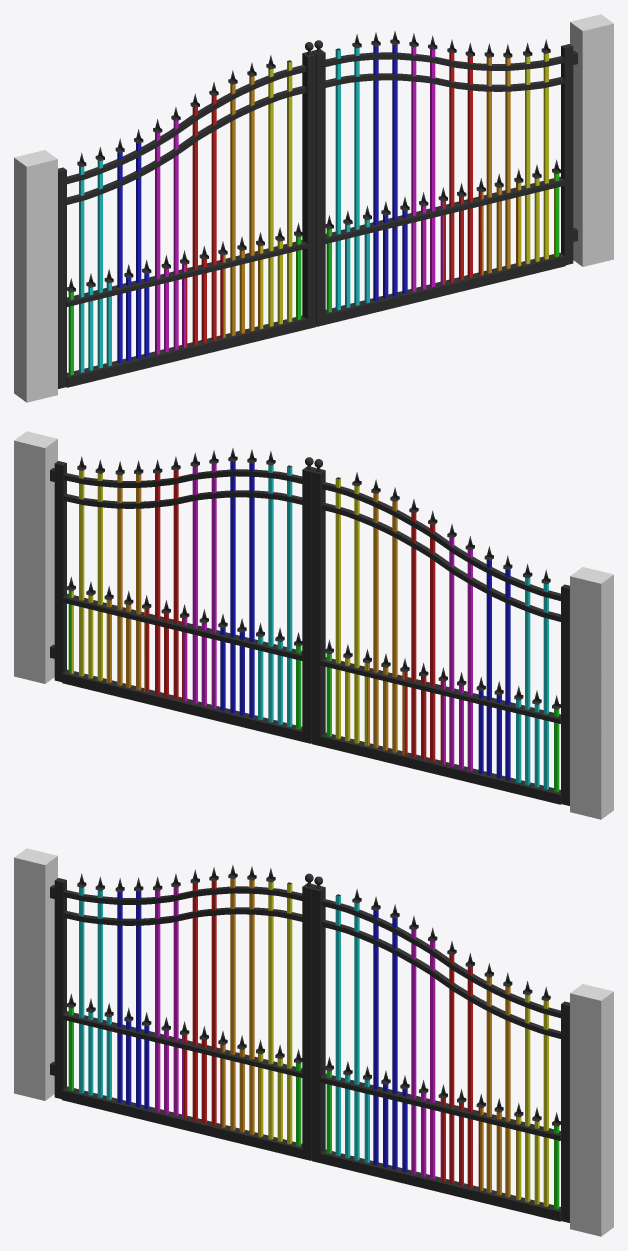
File: Gate 1.fbx
3 views of the same model, one above another, from view 1: azimuth 30°, elevation 25°; view 2: azimuth 150°, elevation 25°; view 3: azimuth 330°, elevation 25° (orthographic).
Visible parts, largest first — view 1: Cone.003, Cone.002, Cone.001, Cone.004; view 2: Cone.003, Cone.002, Cone.001, Cone.004; view 3: Cone.002, Cone.003, Cone.004, Cone.001.
Boxes of the visible parts, bbox=[...] form: Cone.003: bbox=[58, 42, 316, 388]; Cone.002: bbox=[311, 31, 577, 326]; Cone.001: bbox=[14, 150, 57, 402]; Cone.004: bbox=[570, 14, 613, 266]; Cone.003: bbox=[311, 459, 569, 805]; Cone.002: bbox=[50, 448, 316, 743]; Cone.001: bbox=[570, 567, 613, 819]; Cone.004: bbox=[14, 431, 57, 683]; Cone.002: bbox=[311, 876, 569, 1222]; Cone.003: bbox=[50, 865, 316, 1160]; Cone.004: bbox=[570, 984, 613, 1236]; Cone.001: bbox=[14, 848, 57, 1100].
Bounding box in the file's own units: 463 × 215 × 17.49.
